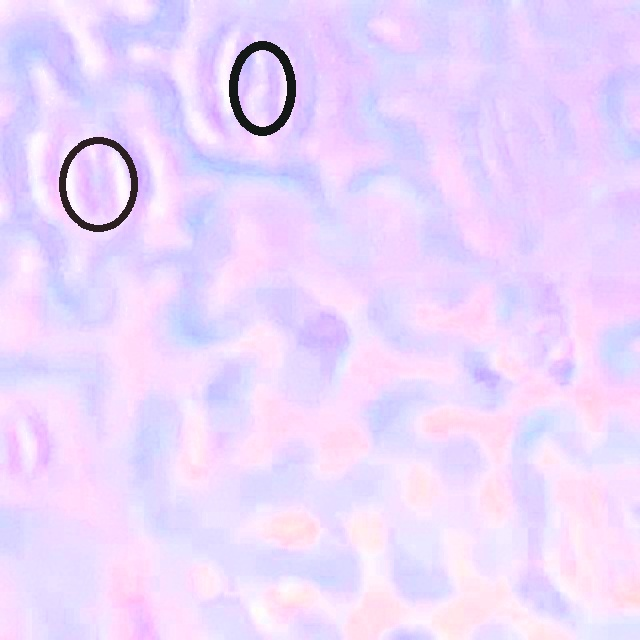close: (59, 136, 138, 231), (228, 40, 296, 136)
